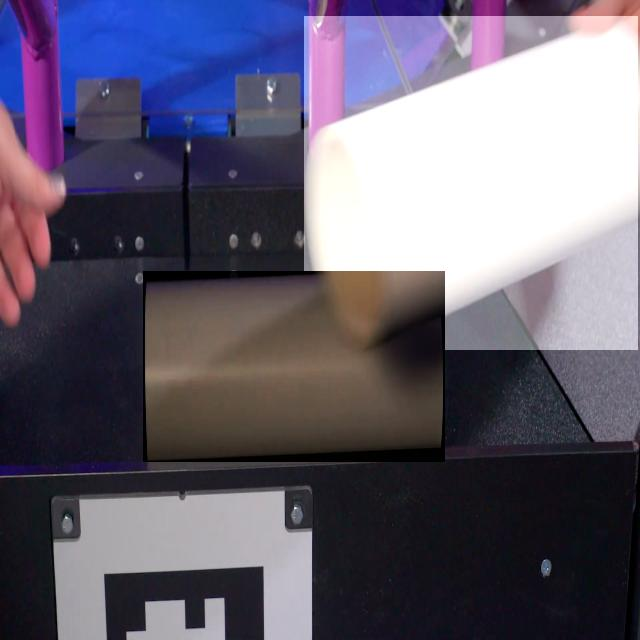Coral: (304, 17, 638, 350), (143, 271, 445, 462)
